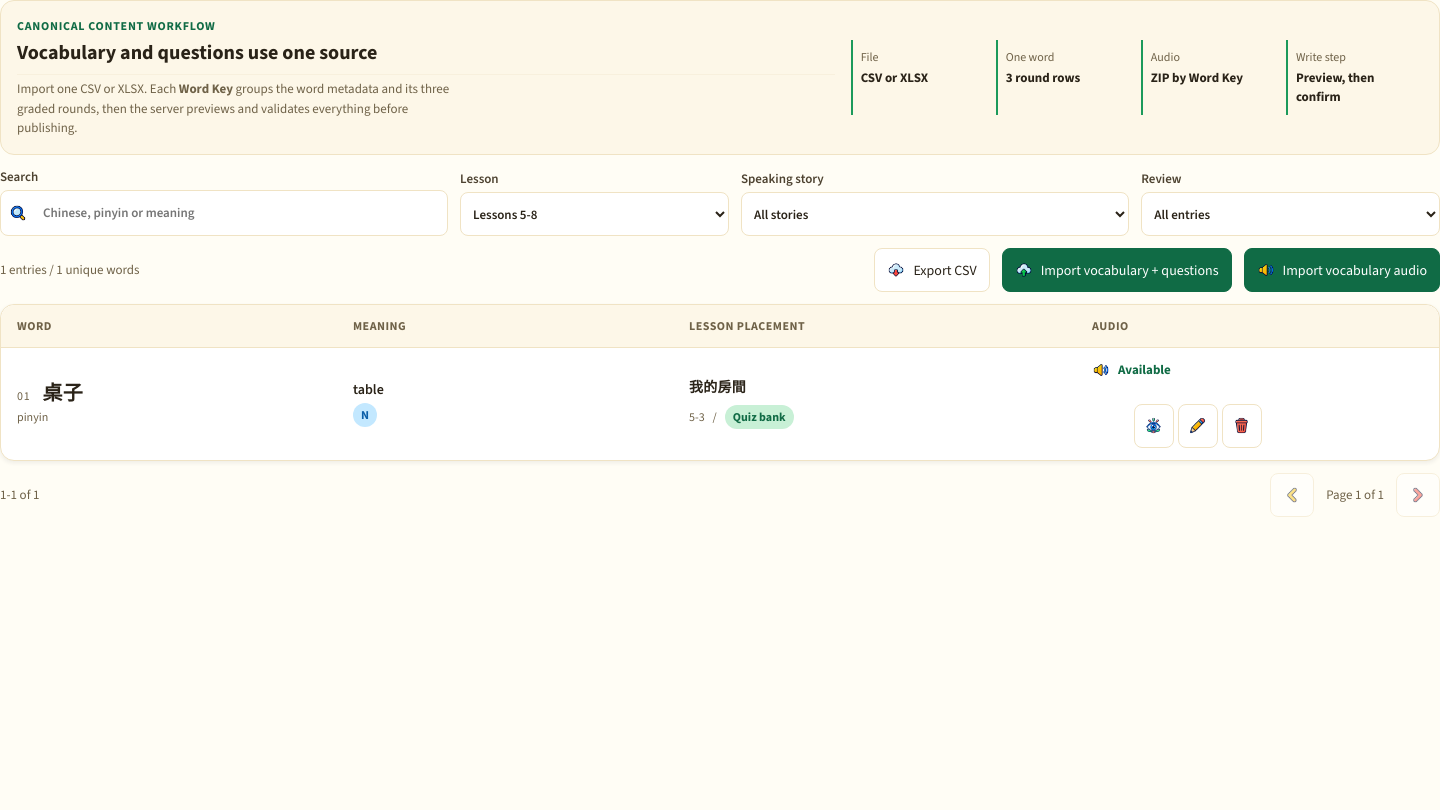
Test: Admin vocabulary page › includes imported word audio in the vocabulary preview
The width and height of the screenshot is (1440, 810).
Click the button named "View quiz questions for 桌子". click: (1154, 426)
box: left=1134, top=404, right=1174, bottom=448
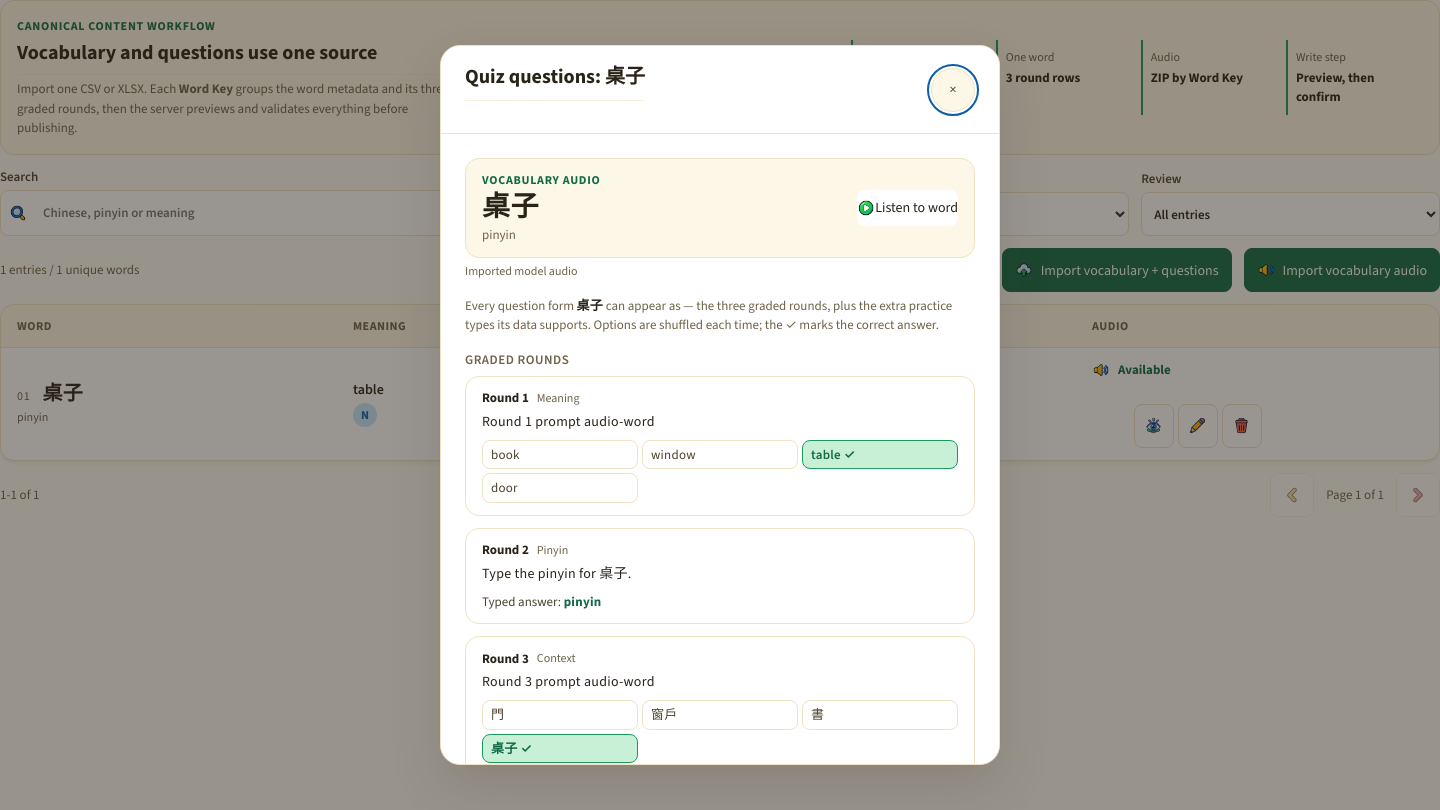
Check: the button "Listen to word" is shown, box left=857, top=190, right=958, bottom=226
Check: the text "Imported model audio" is shown, box left=465, top=263, right=578, bottom=279
